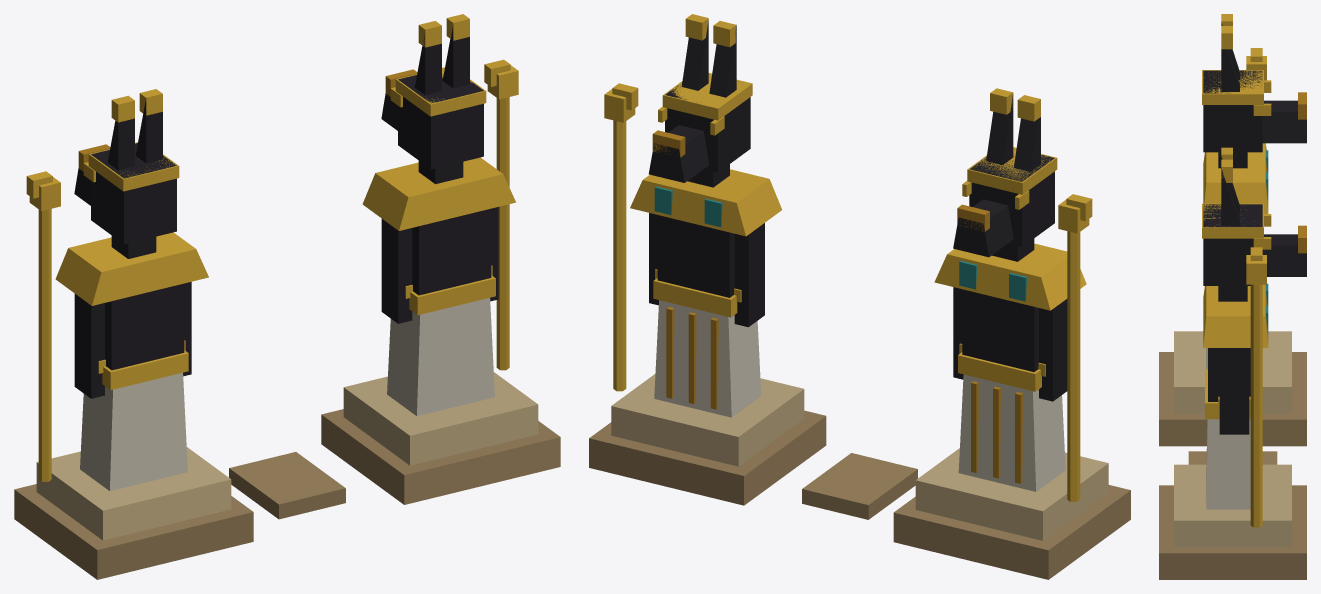
Rendered from Decor_PharaohPyramid_Anubis.fbx.
3 renders of one model, left to right at view 1: azimuth 30°, elevation 25°; view 2: azimuth 150°, elevation 25°; view 3: azimuth 270°, elevation 25°, orthographic. The views are drawn at different scales.
Visible parts, largest first — view 1: Anubis_Body; view 2: Anubis_Body; view 3: Anubis_Body.
Boxes of the visible parts, left/top/right/bottom form: Anubis_Body: left=14, top=14, right=560, bottom=579; Anubis_Body: left=589, top=14, right=1130, bottom=579; Anubis_Body: left=1159, top=14, right=1306, bottom=579.
Size of the model in its own units: 16.8 by 14.5 by 5.
